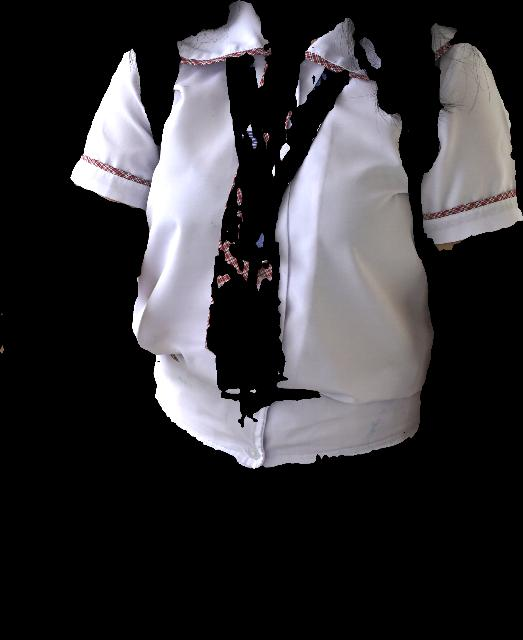pologirl: (71, 0, 433, 468)
